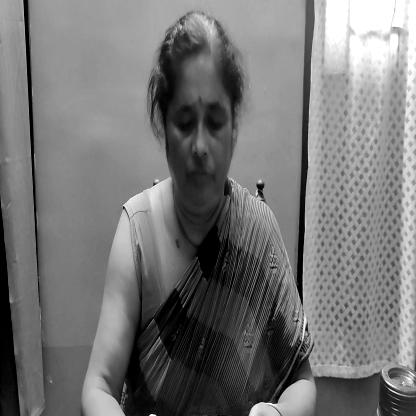Normal: (150, 20, 244, 215)
